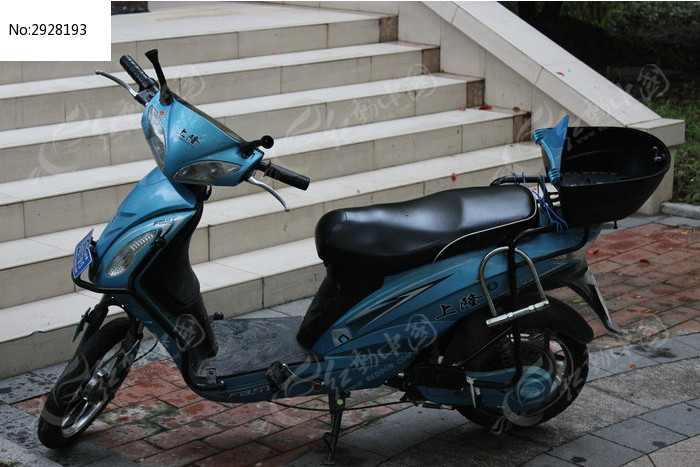MNV: (41, 51, 669, 430)
